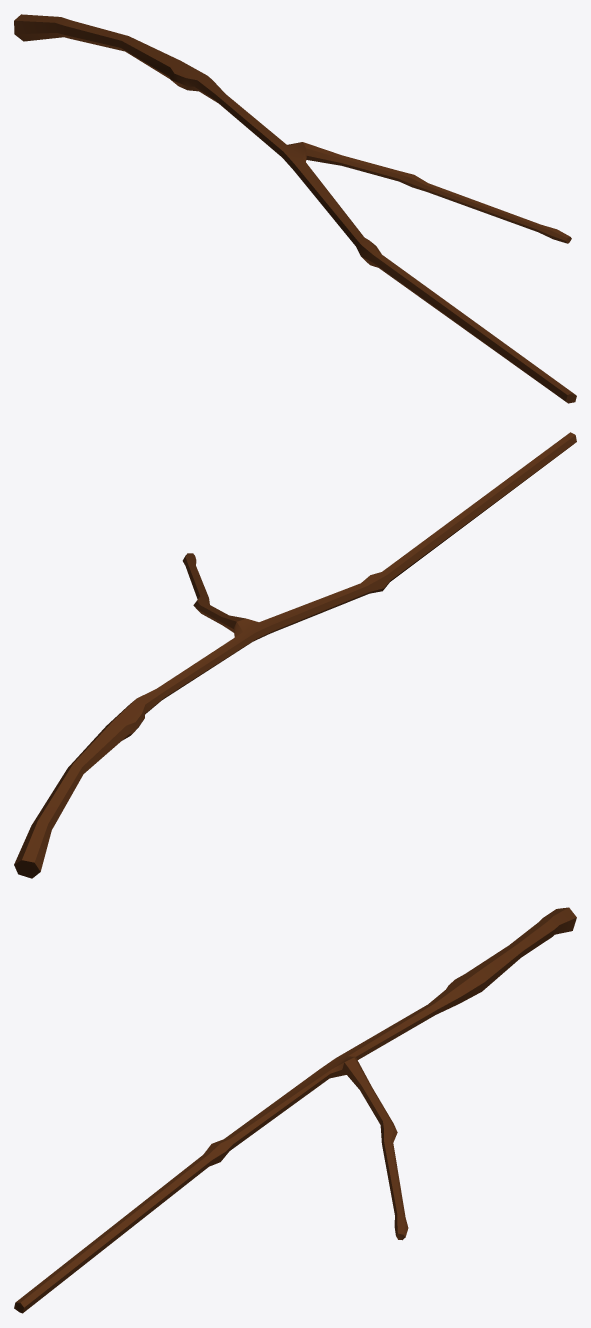
File: IL3DN_Dead_Branch_02.fbx
3 views of the same model, one above another, from view 1: azimuth 30°, elevation 25°; view 2: azimuth 150°, elevation 25°; view 3: azimuth 330°, elevation 25° (orthographic). The views are drawn at different scales.
Parts seen in each view (by area): view 1: Nature_Dead_Branch_02; view 2: Nature_Dead_Branch_02; view 3: Nature_Dead_Branch_02.
Boxes of the visible parts, box(x1,y1,x2,y2) form: Nature_Dead_Branch_02: box(14, 14, 576, 403); Nature_Dead_Branch_02: box(14, 432, 576, 878); Nature_Dead_Branch_02: box(14, 907, 576, 1313).
Bounding box in the file's own units: 3.53 × 1.04 × 15.88.
